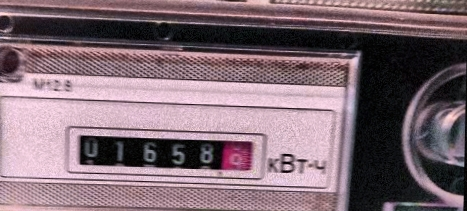0: (82, 135, 99, 157)
1: (111, 137, 126, 161)
5: (169, 140, 186, 165)
6: (140, 139, 159, 163)
8: (197, 141, 215, 163)
9: (226, 149, 243, 171)
screen: (62, 121, 269, 183)
